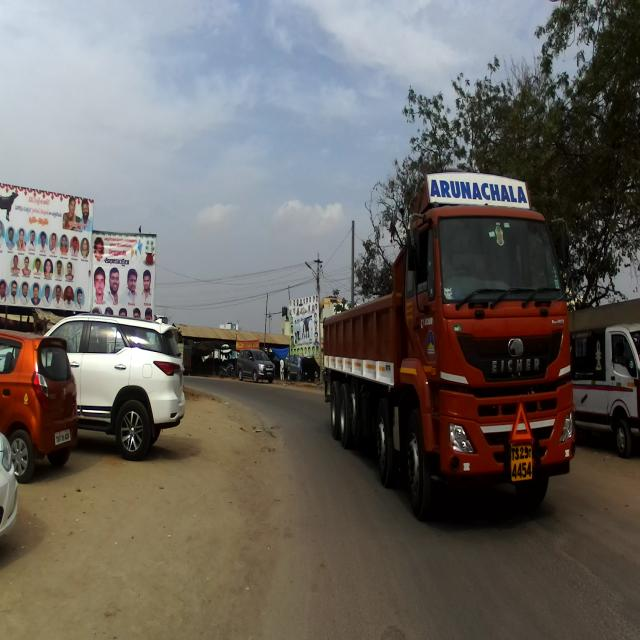car ahead at: (78, 312, 184, 458), (5, 327, 77, 478)
truck ahead at: (330, 174, 576, 502)
